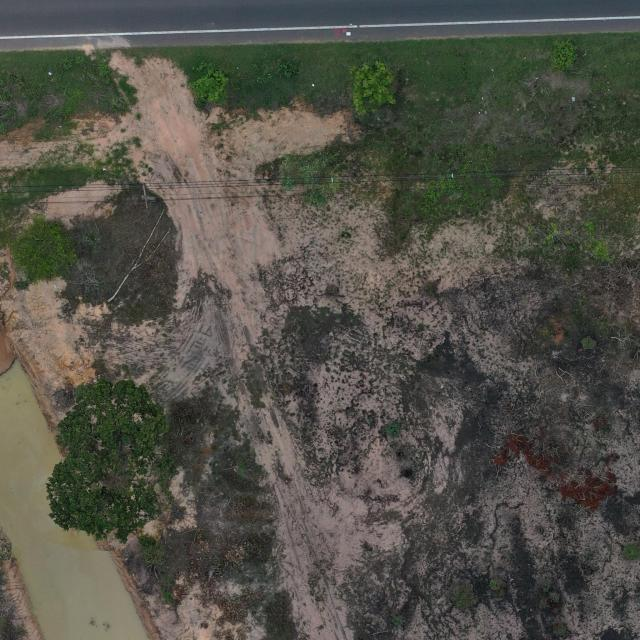Tree: (44, 380, 182, 547), (8, 211, 80, 284), (278, 147, 344, 210), (351, 58, 397, 119), (188, 67, 230, 106), (549, 40, 578, 74)
